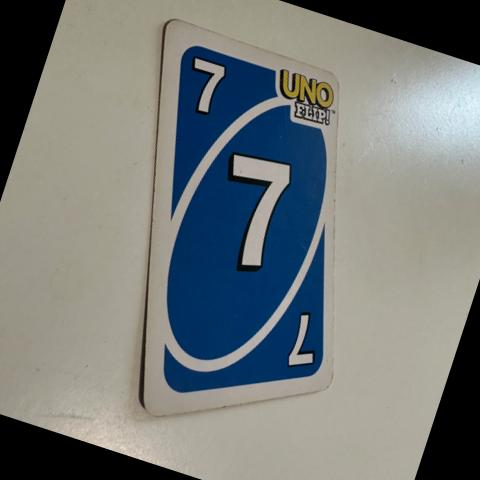lblue-7: (165, 34, 250, 140)
